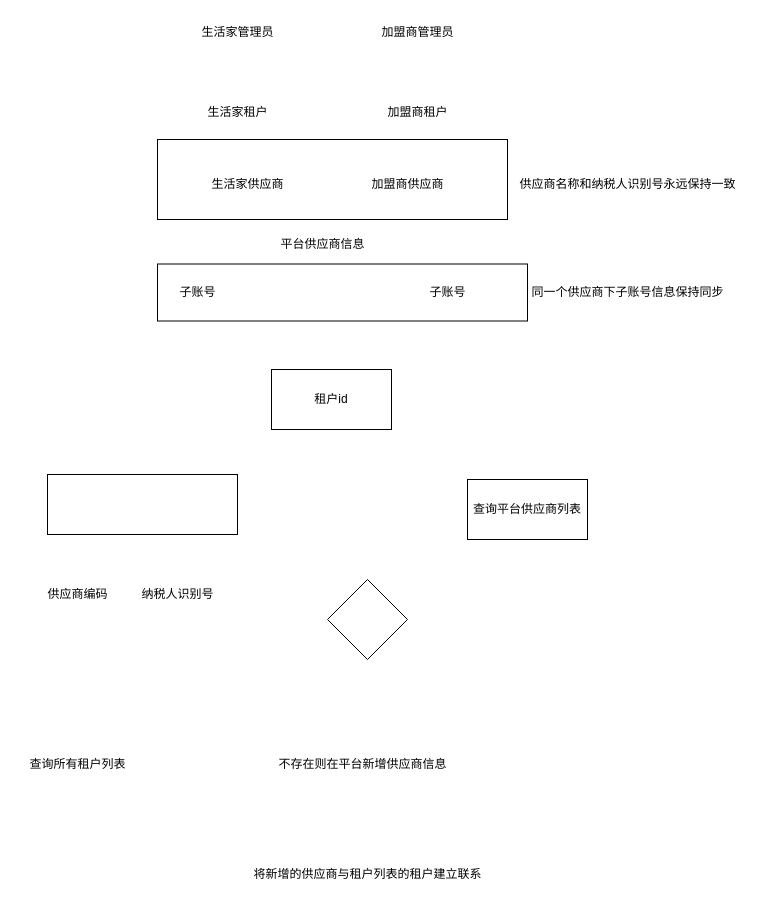
This 764x906 diagram has some shape labels left out. The centre of each missing label's shape, as x and y in pixels:
"判断平台是否存在 （供应商编码？纳税人识别号？）" goes at (x=367, y=619).
"查询当前租户下的供应商列表" goes at (x=142, y=504).
